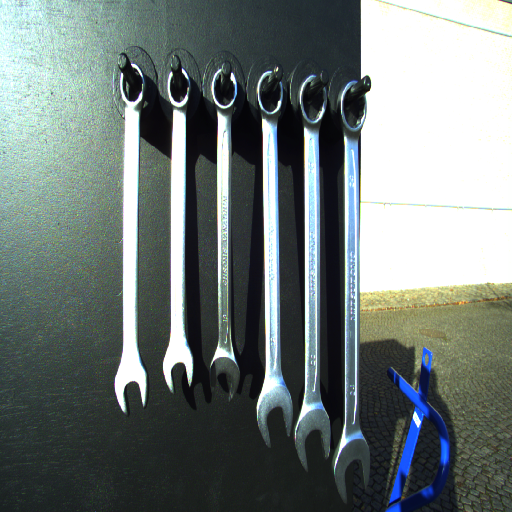bottom: (332, 440, 372, 504), (256, 385, 293, 453), (294, 409, 331, 473), (113, 363, 148, 417), (207, 355, 242, 403), (160, 347, 194, 395)
top: (335, 79, 369, 141), (295, 73, 329, 130), (254, 69, 285, 122), (209, 65, 240, 114), (118, 61, 146, 112), (166, 66, 194, 111)
